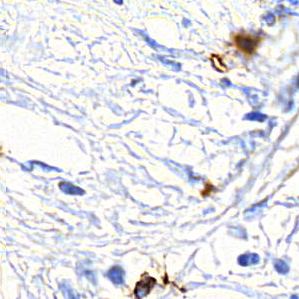Lymphocyte: (132, 271, 158, 299)
